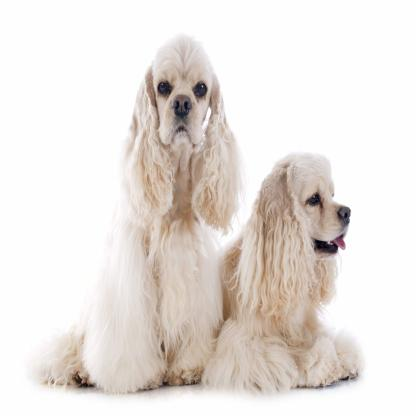American Cocker Spaniel: (90, 27, 276, 357), (250, 159, 371, 394)
